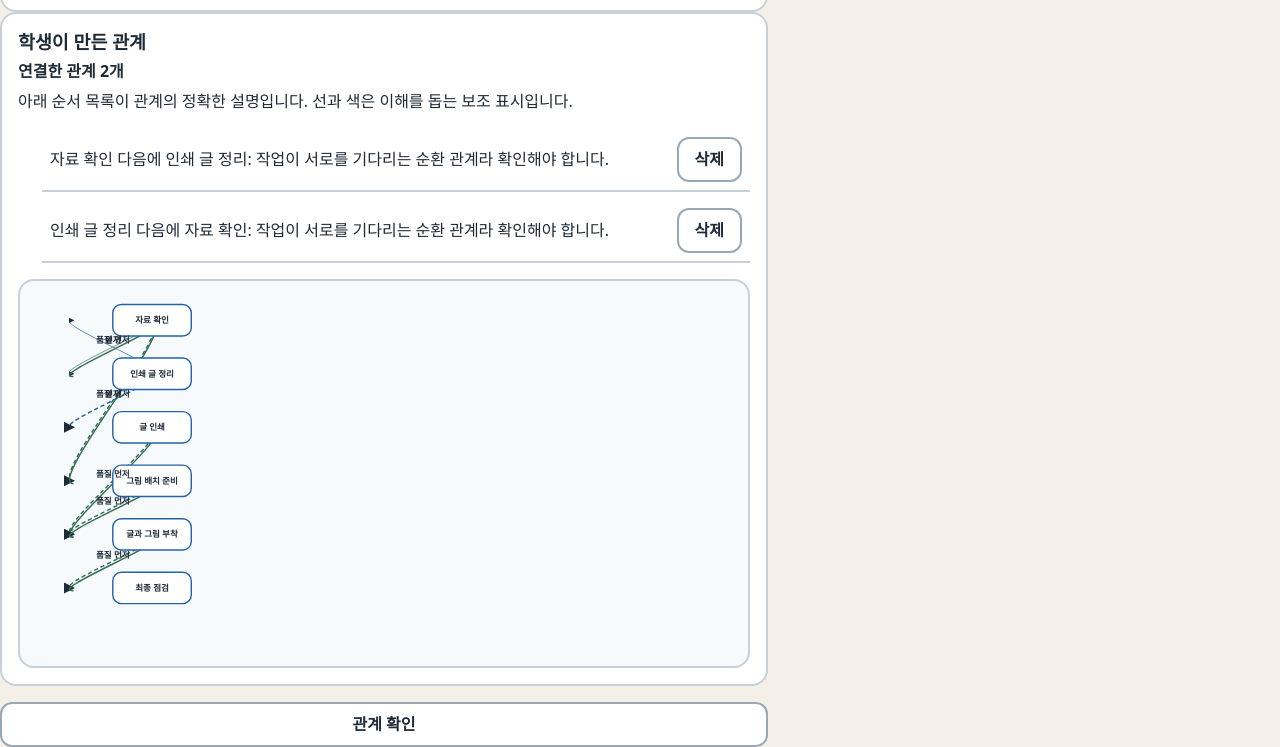
it: accessible relationship design › describes cycle invalid rows without safe extra wording
(page scrolled)
Click the button "관계 확인": (384, 725) [0,702,768,746]
(page scrolled)
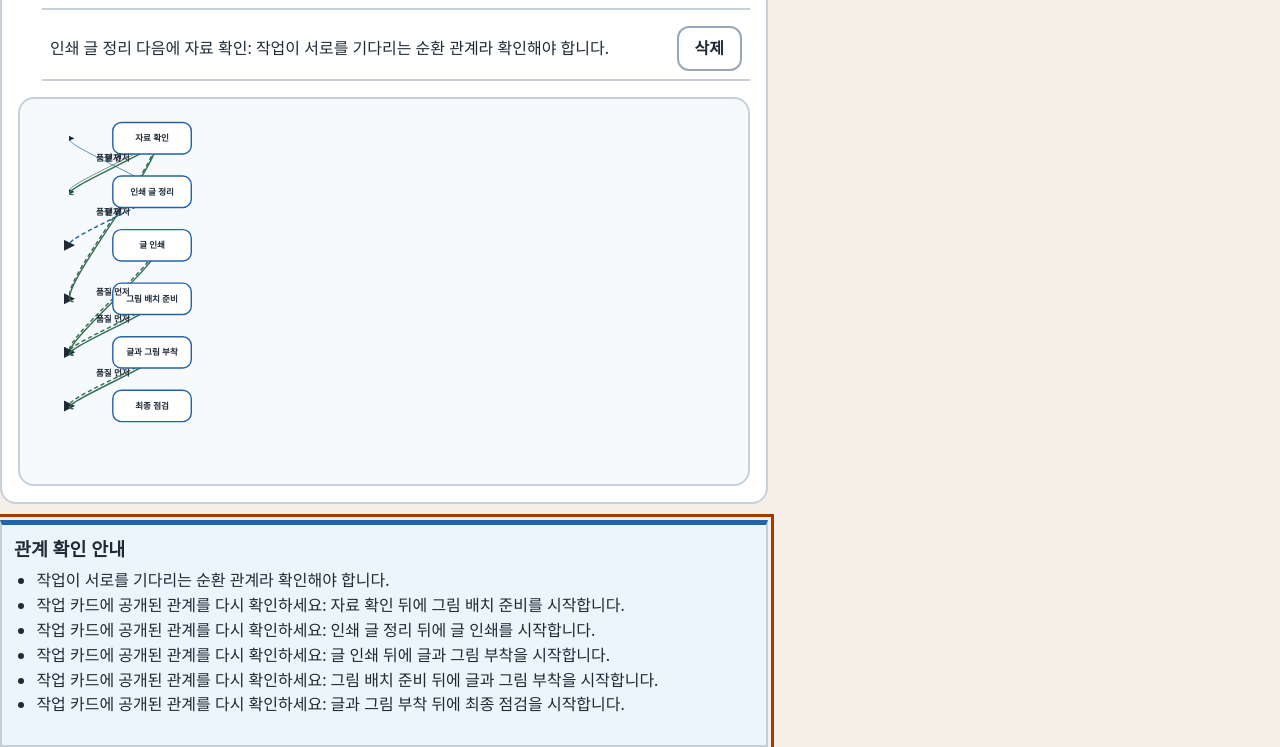
Check: the message shows "작업이 서로를 기다리는 순환 관계라 확인해야 합니다.", box [36,569,390,591]
